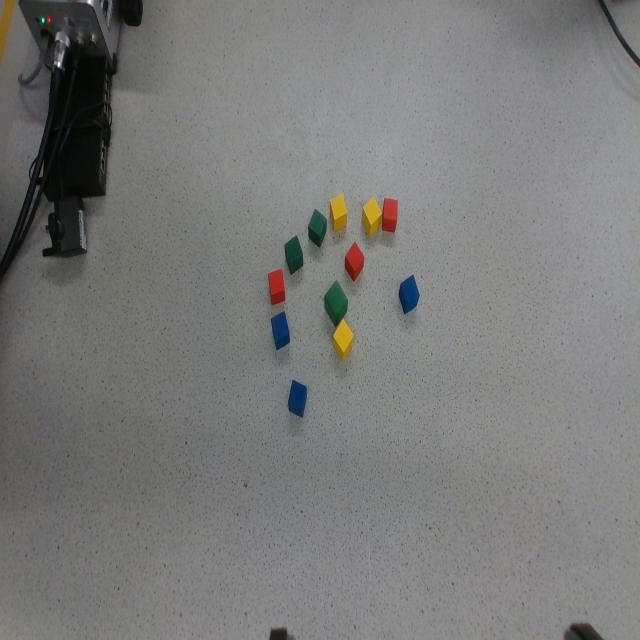blue_cube: (394, 276, 423, 315), (284, 380, 310, 418), (269, 313, 293, 350)
green_cube: (315, 280, 358, 328), (303, 208, 332, 249), (282, 235, 306, 276)
red_cube: (337, 243, 371, 282), (267, 268, 286, 305), (380, 198, 400, 233)
yellow_cube: (325, 318, 360, 362), (354, 197, 389, 238), (326, 193, 351, 233)
